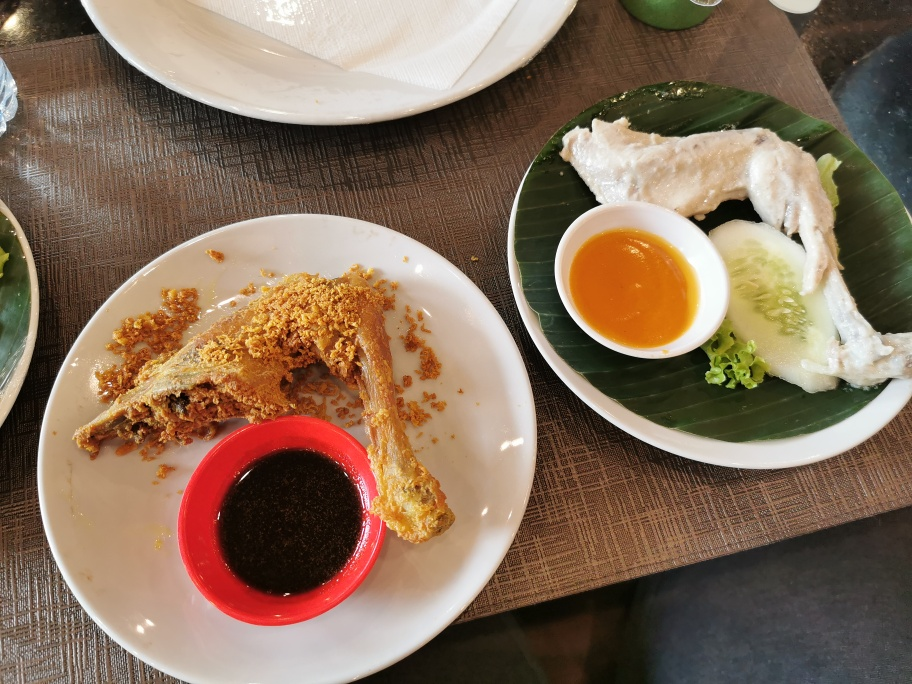ayam goreng: (75, 265, 450, 540)
ayam pop: (553, 114, 912, 383)
extra: (541, 202, 837, 402)
kecap: (172, 414, 385, 613)
